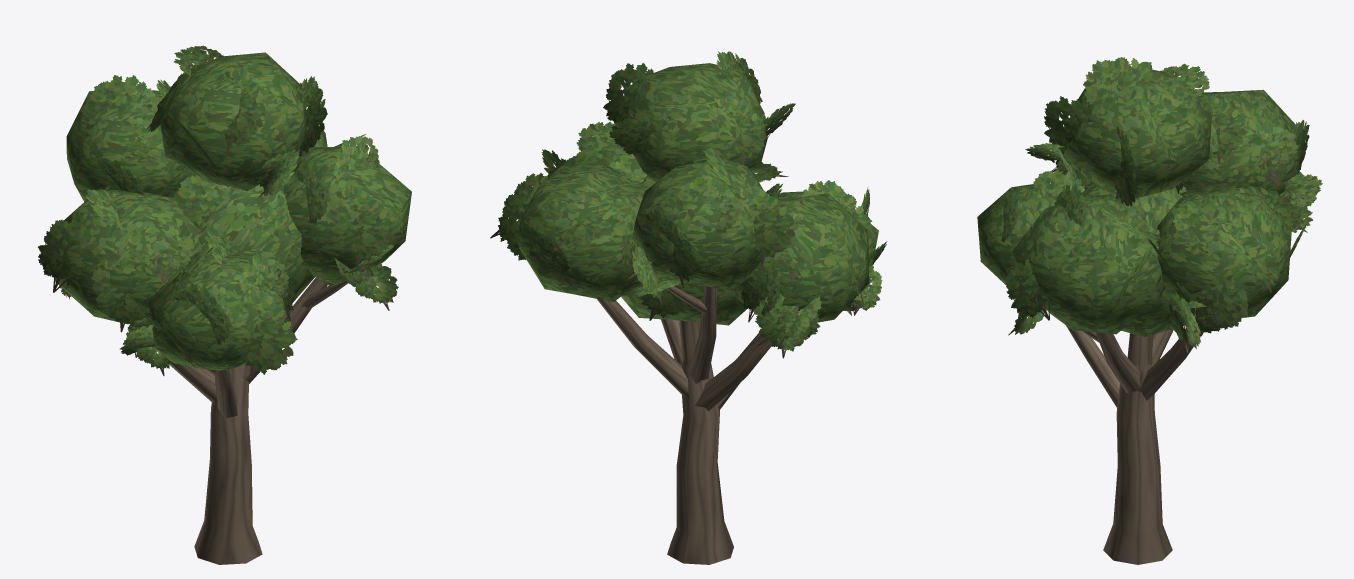
The model's file is oak_summer.glb.
3 views of the same model, side by side, from view 1: azimuth 30°, elevation 25°; view 2: azimuth 150°, elevation 25°; view 3: azimuth 270°, elevation 25° (orthographic).
Visible parts, largest first — view 1: oak_summer_mesh; view 2: oak_summer_mesh; view 3: oak_summer_mesh.
Part boxes in pixels (box(x1,y1,x2,y2)): oak_summer_mesh: box(38, 45, 411, 564); oak_summer_mesh: box(490, 51, 887, 564); oak_summer_mesh: box(977, 57, 1322, 564).
Size of the model in its own units: 3.77 by 5.24 by 3.67.
Materials: 3 (3 with a texture image).
